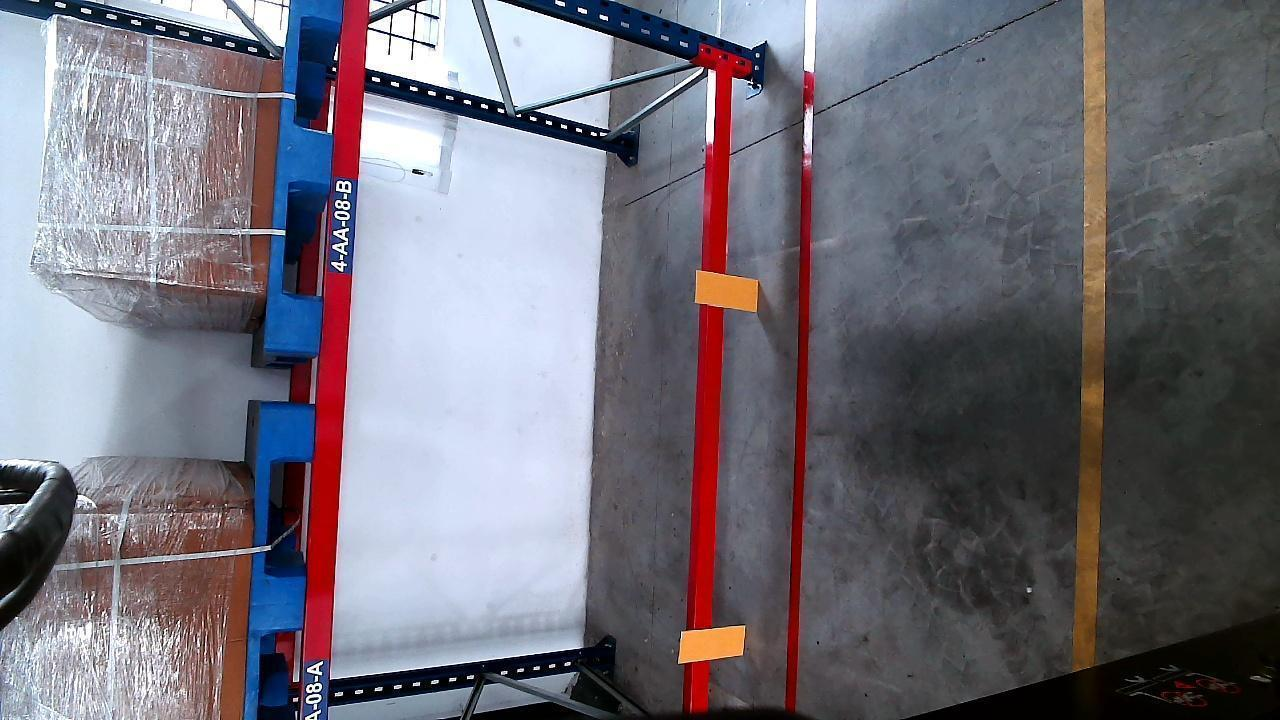red_line: (779, 68, 818, 710)
yellow_line: (1077, 6, 1110, 671)
